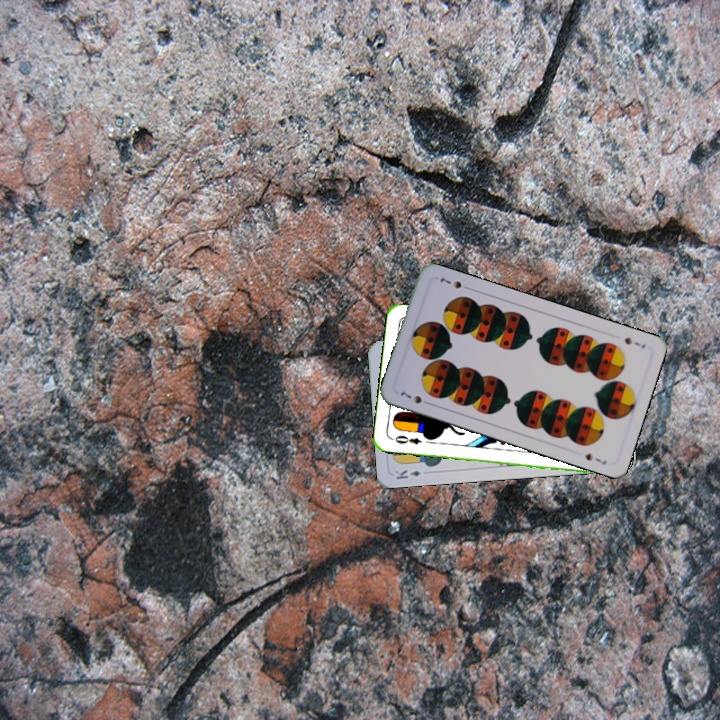EK: (391, 466, 423, 482)
EO: (388, 431, 424, 447)
S7: (396, 388, 434, 408), (620, 333, 648, 351)
